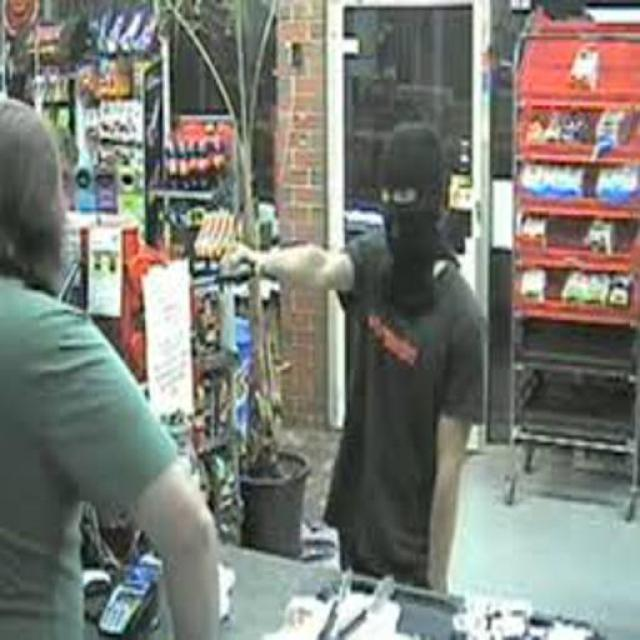pistol: (211, 240, 260, 300)
